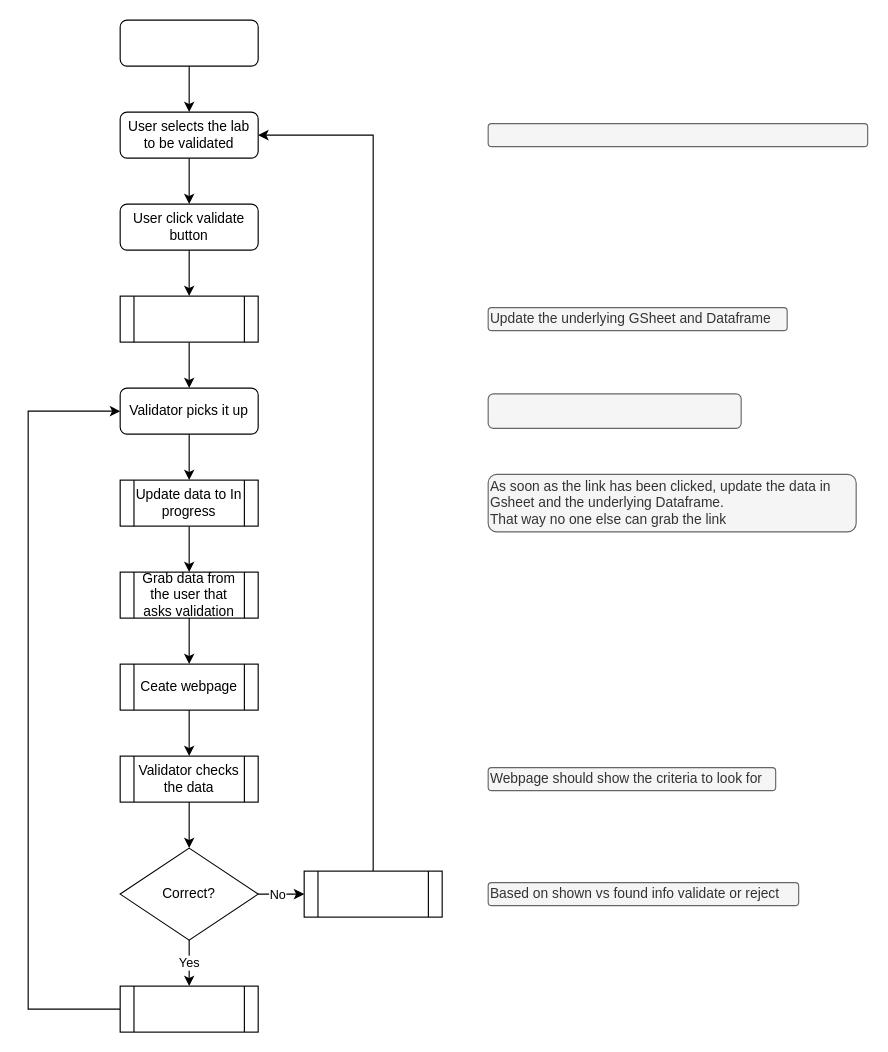
Image size: 888x1052. Some labels were removed from this diagram. Here are the shapes that lost their labels. From the top down, the centre of each, then its label:
At point (188, 42): "Begin".
At point (677, 134): "User sees only the labs that have no or Rejected as status".
At point (188, 318): "Update data to Pending".
At point (614, 410): "Show all validation and their statuses. Only the Pending ones are links".
At point (372, 893): "Update data to Rejected".
At point (188, 1008): "Update data to Validated".
